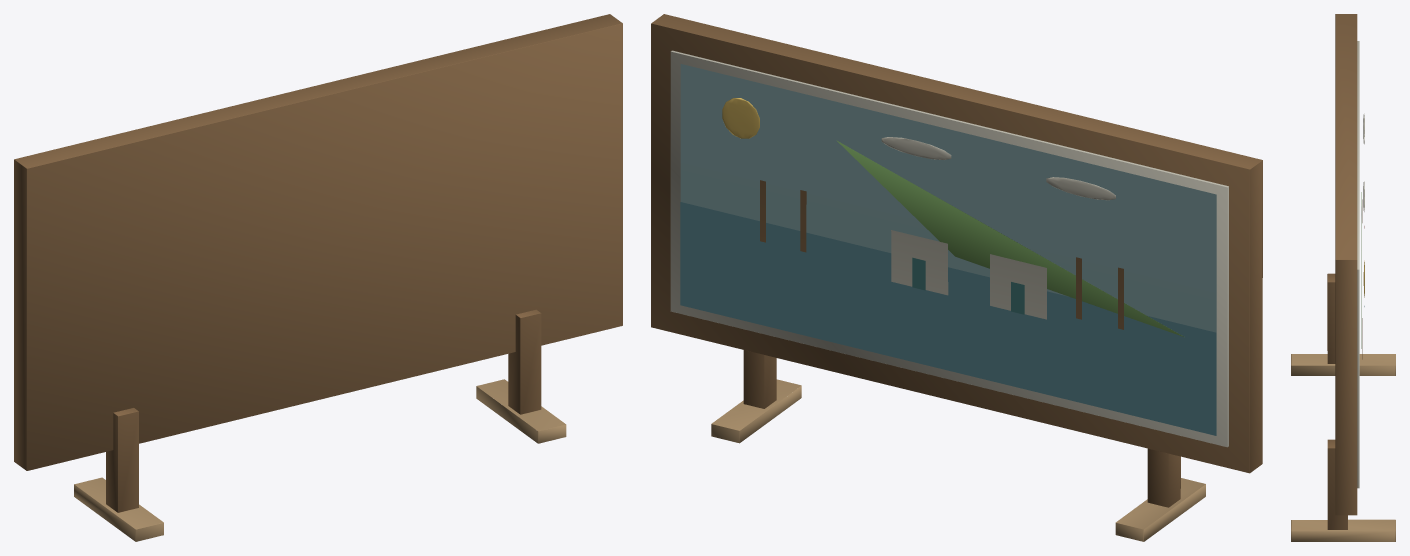
The model's file is mural_stage3.glb.
3 views of the same model, side by side, from view 1: azimuth 30°, elevation 25°; view 2: azimuth 150°, elevation 25°; view 3: azimuth 270°, elevation 25° (orthographic). The views are drawn at different scales.
Size of the model in its own units: 4 by 2.4 by 0.72.
